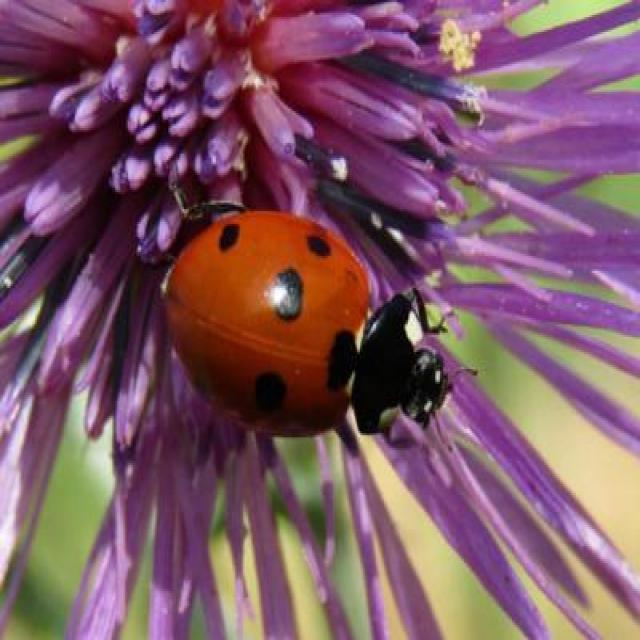antennae: (445, 352, 490, 394)
body: (165, 208, 448, 438)
insect: (160, 172, 483, 447)
legs: (399, 270, 463, 343), (167, 176, 250, 225)
wings: (170, 209, 368, 434)
